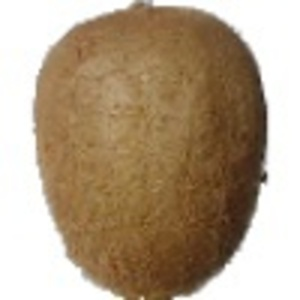kiwi: (32, 1, 270, 300)
